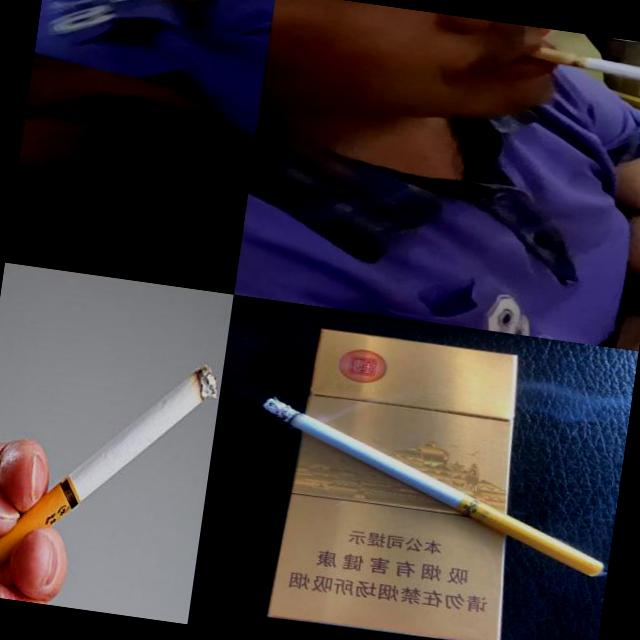smoke: (244, 396, 620, 578), (0, 333, 222, 605), (516, 42, 640, 94)
